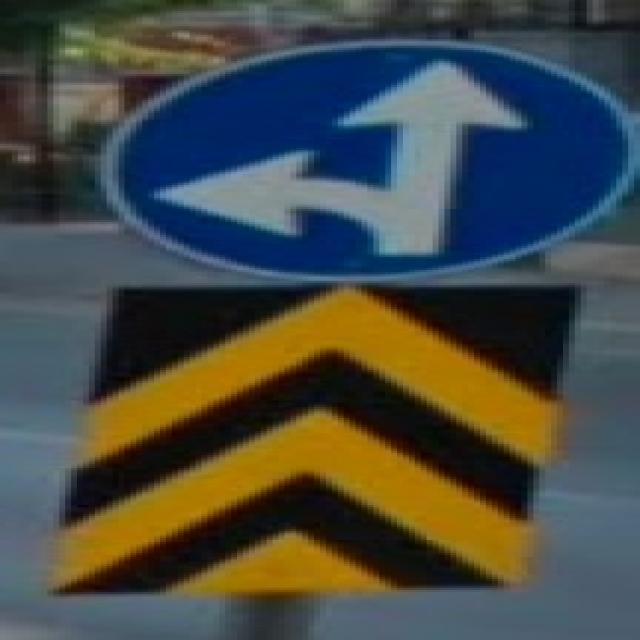Straight or Left: (101, 40, 640, 281)
